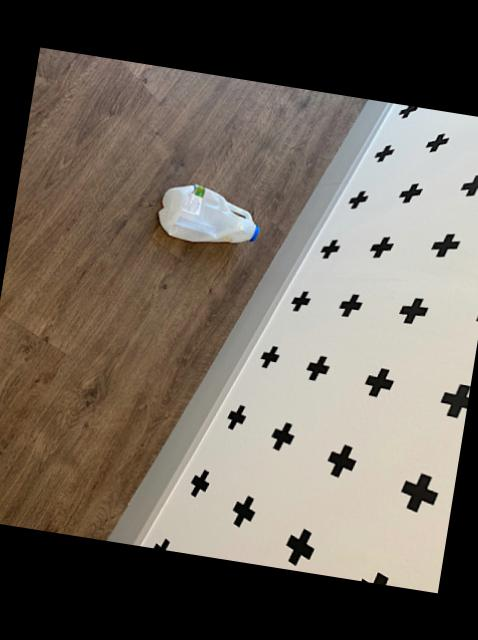plastic: (161, 185, 261, 243)
